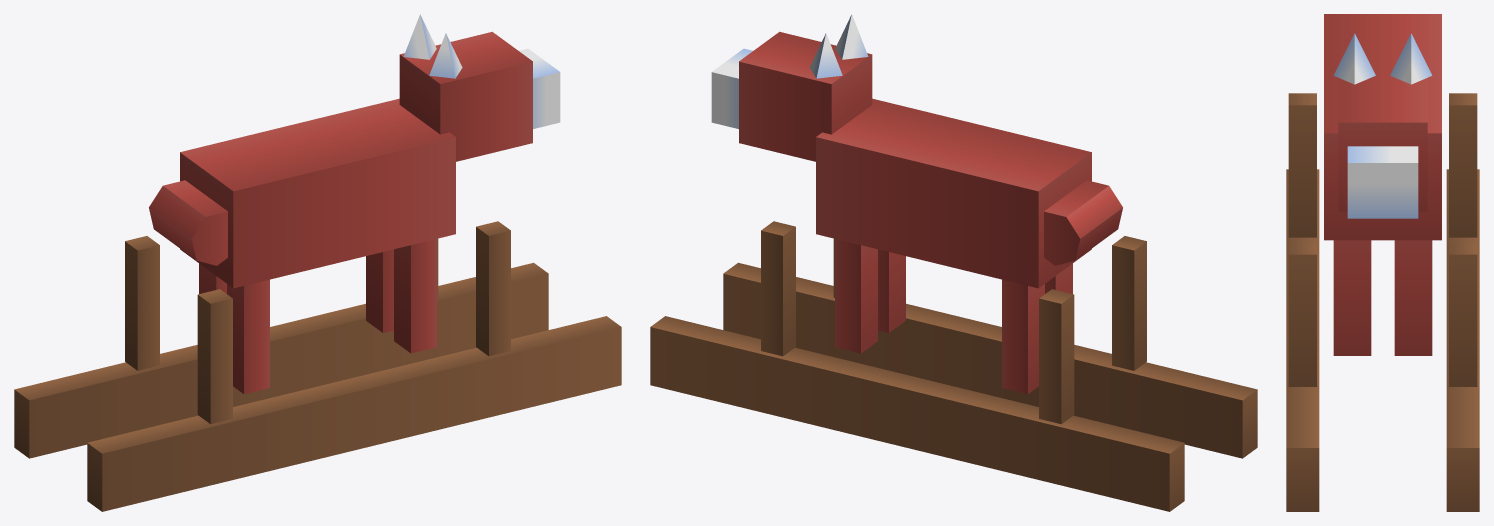
Rendered from rocking_horse.fbx.
3 renders of one model, left to right at view 1: azimuth 30°, elevation 25°; view 2: azimuth 150°, elevation 25°; view 3: azimuth 270°, elevation 25°, orthographic. The views are drawn at different scales.
Parts seen in each view (by area): view 1: rocking_horse; view 2: rocking_horse; view 3: rocking_horse.
Boxes of the visible parts, box(x1,y1,x2,y2) form: rocking_horse: box(14, 14, 621, 511); rocking_horse: box(650, 14, 1257, 511); rocking_horse: box(1286, 14, 1479, 511).
Bounding box in the file's own units: 350 × 235 × 103.
